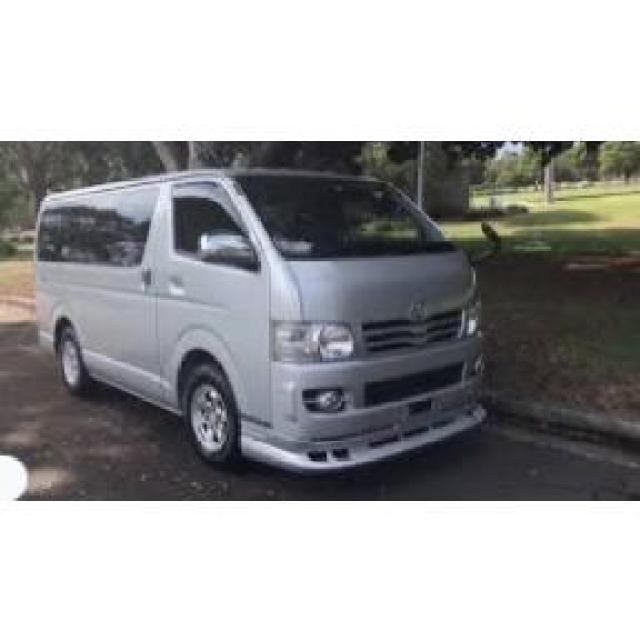Van: (28, 163, 491, 479)
